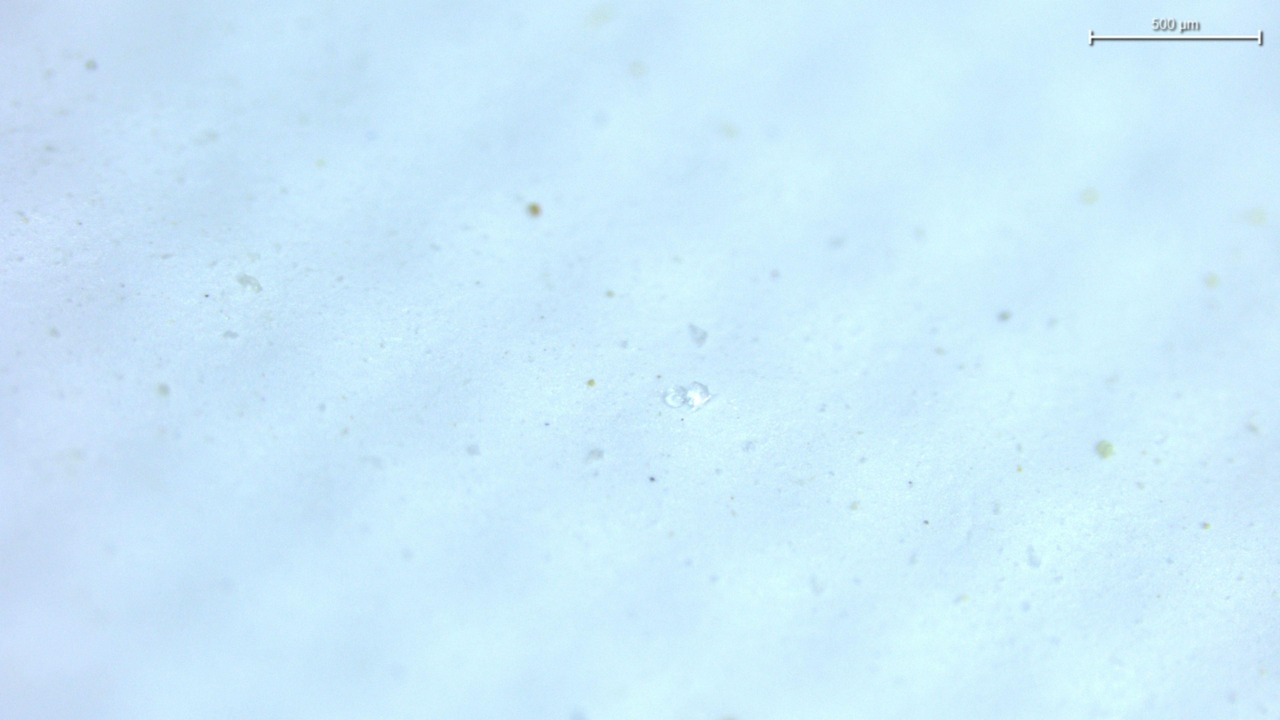microplastic_fragment: (664, 383, 711, 410)
